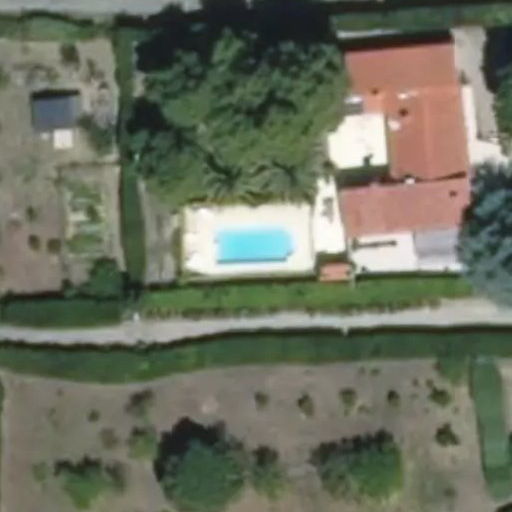pool: (214, 224, 296, 259)
